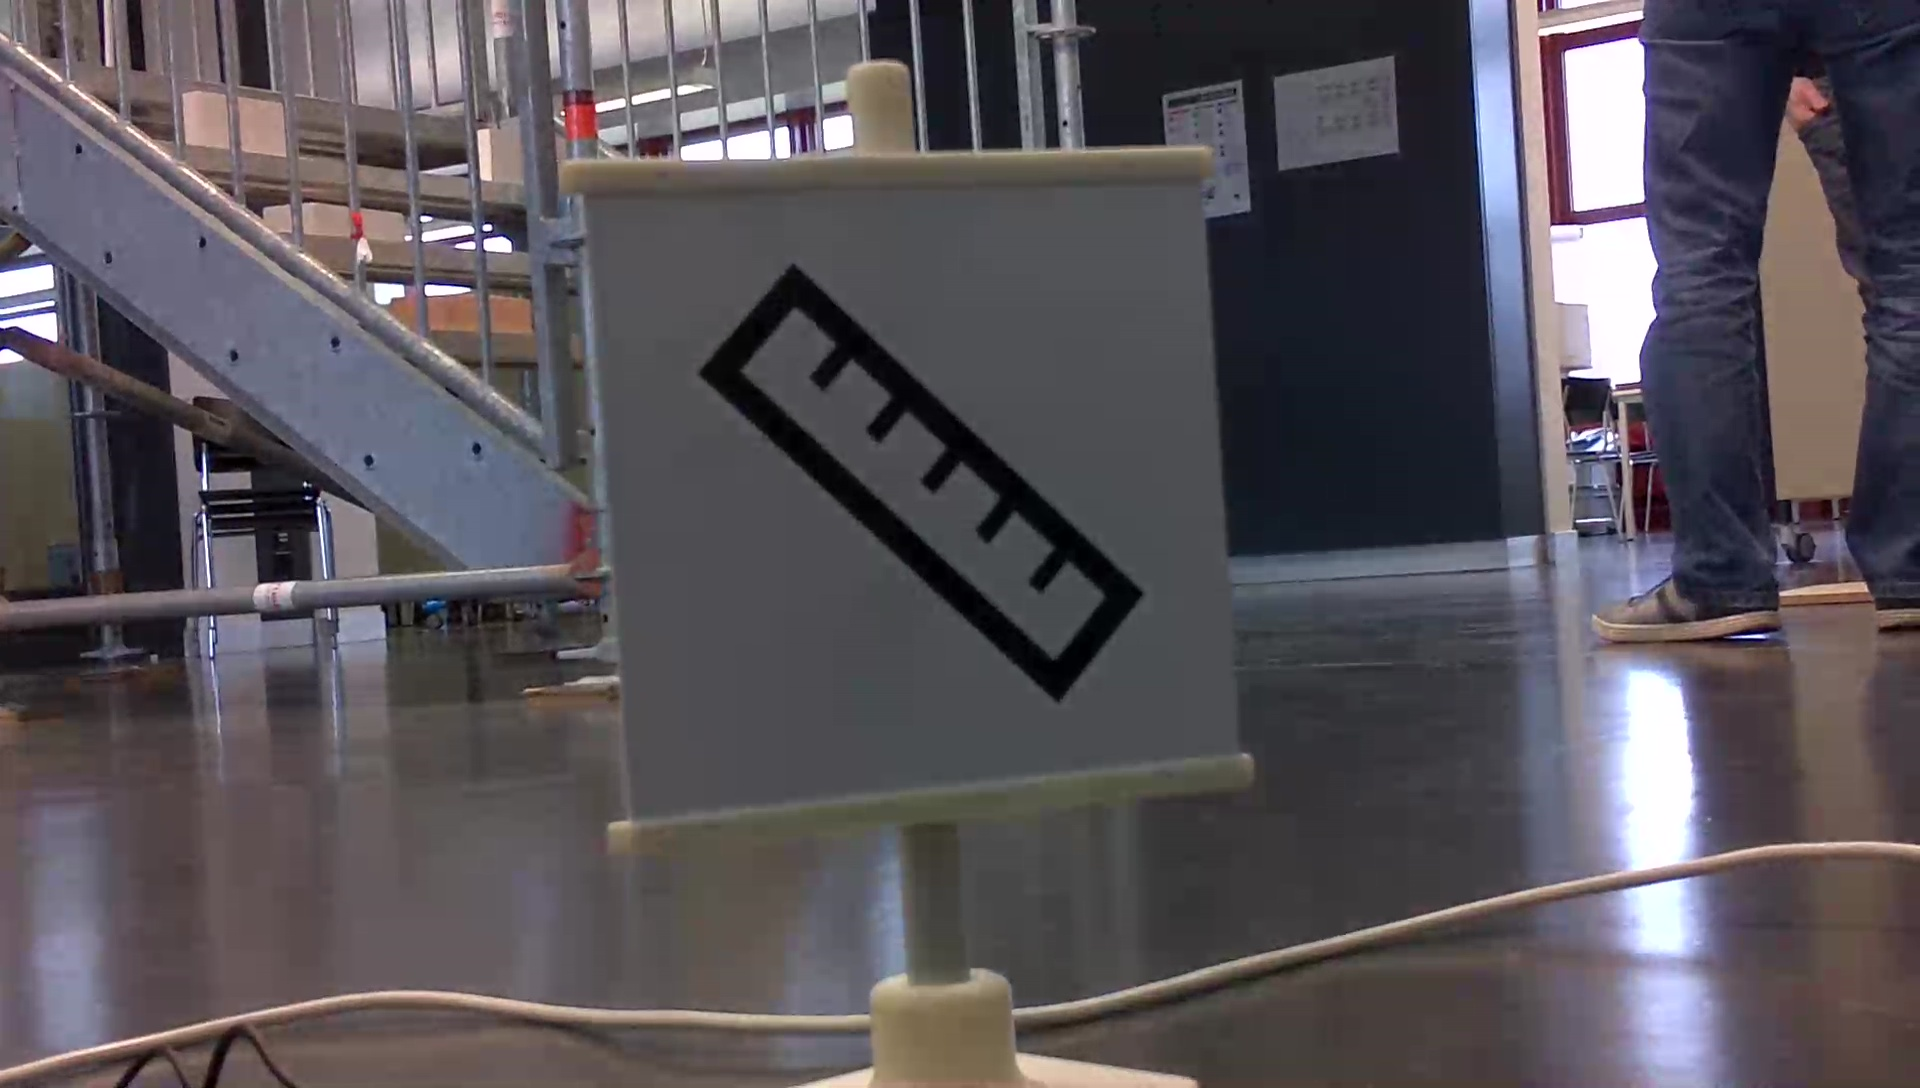ruler: (690, 244, 1156, 702)
